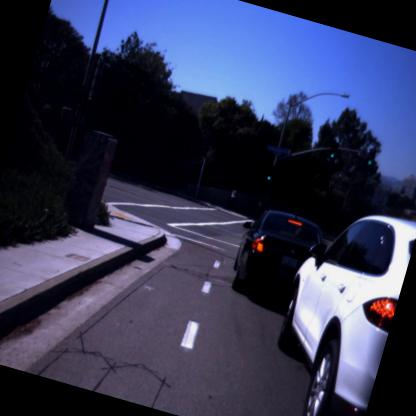trafficlight: (262, 162, 278, 188), (325, 142, 341, 166), (362, 149, 378, 172)
